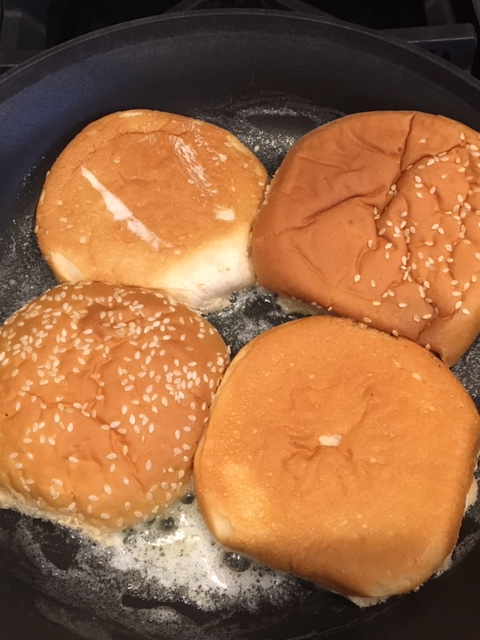hamburger_buns: (184, 311, 479, 620), (1, 271, 247, 535), (245, 90, 480, 365), (29, 89, 278, 309)
